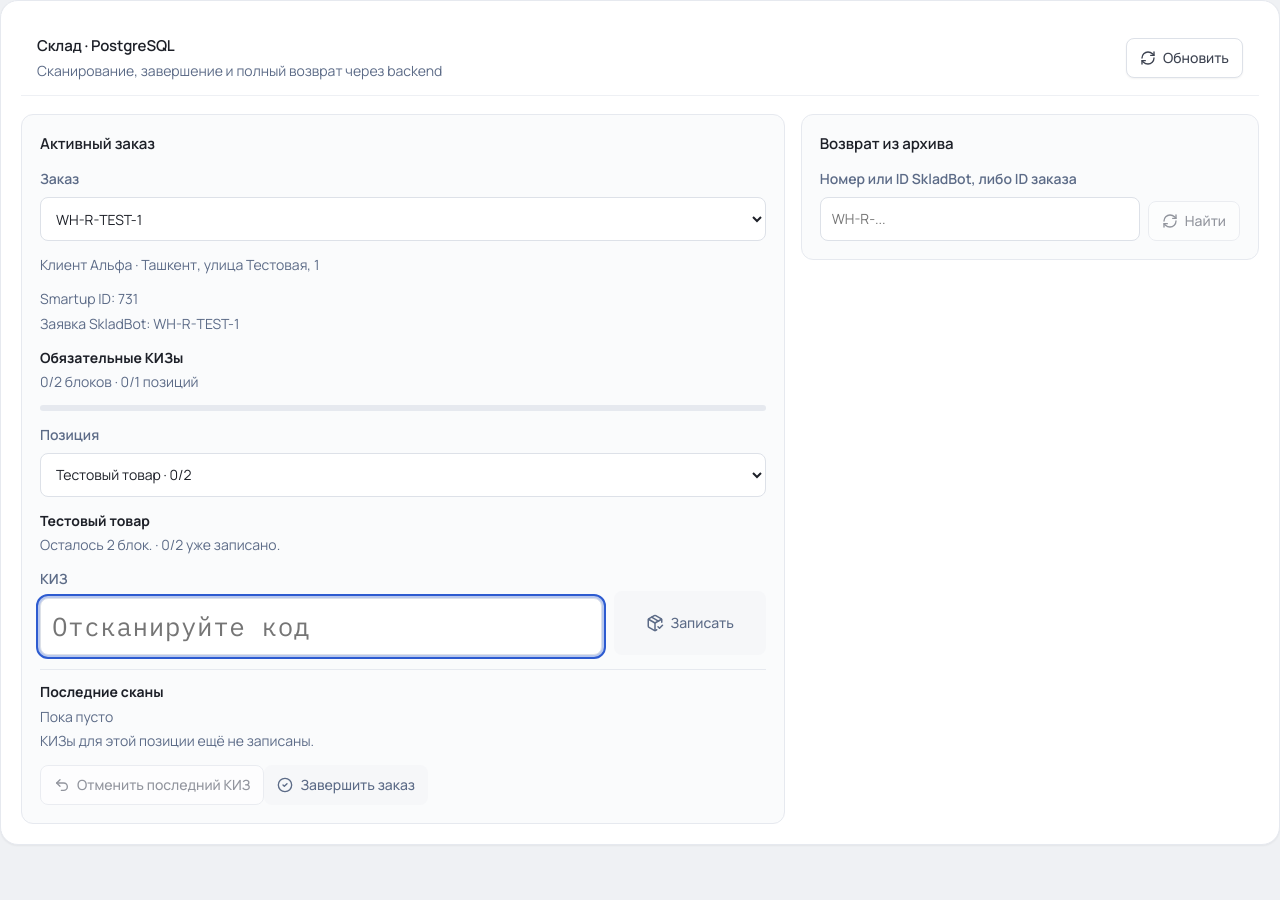
it: DB-only warehouse operations › fails closed when the authoritative response returns another code
Type "0104006396053947217TEST01XXXXXXXXXX" into the field labelled "КИЗ". click: (321, 627)
box: [40,598,602,656]
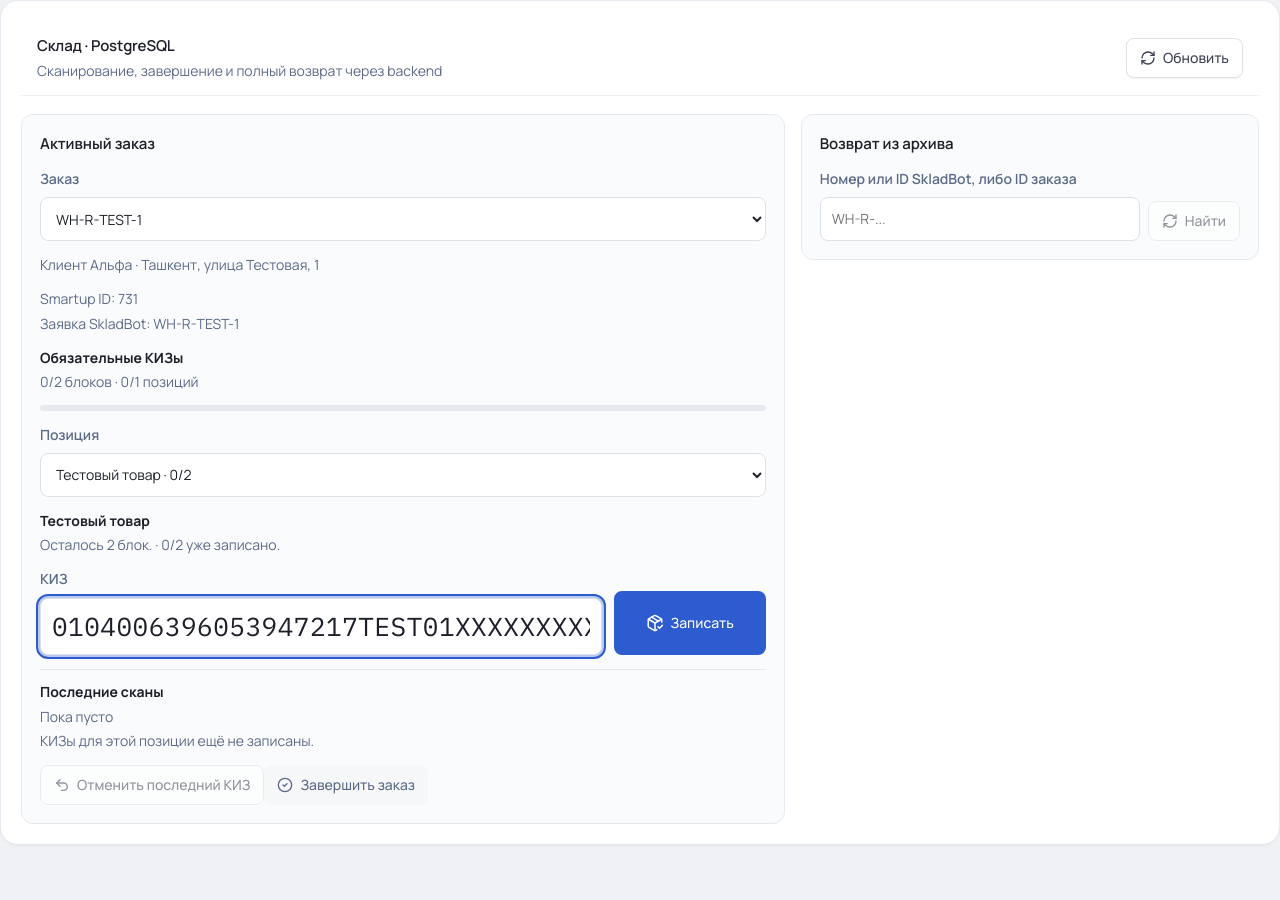
Click the button "Записать". click: (690, 624)
box: [614,592,766,656]
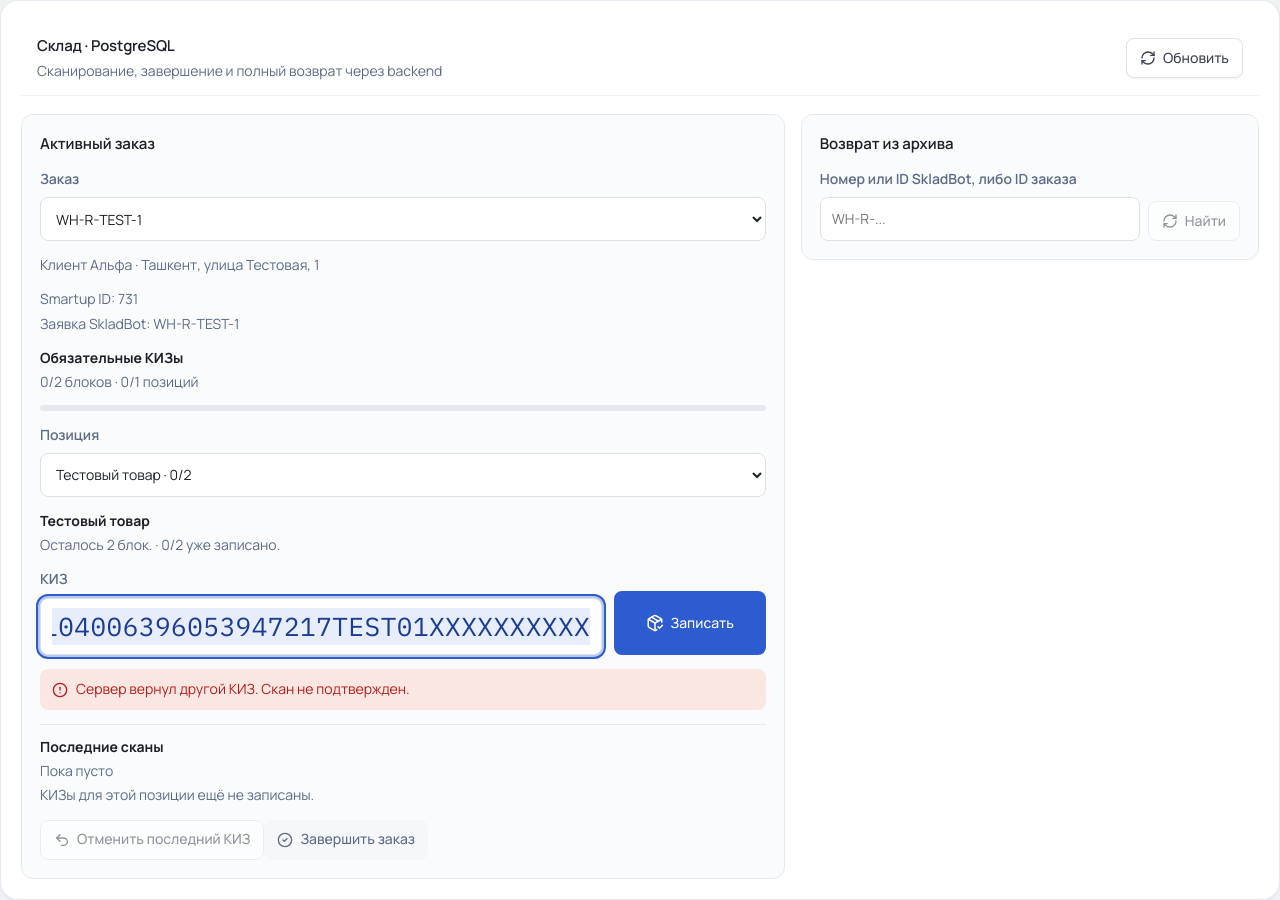
Result: the text "Сервер вернул другой КИЗ. Скан не подтвержден." is shown at [40,670,766,710]
